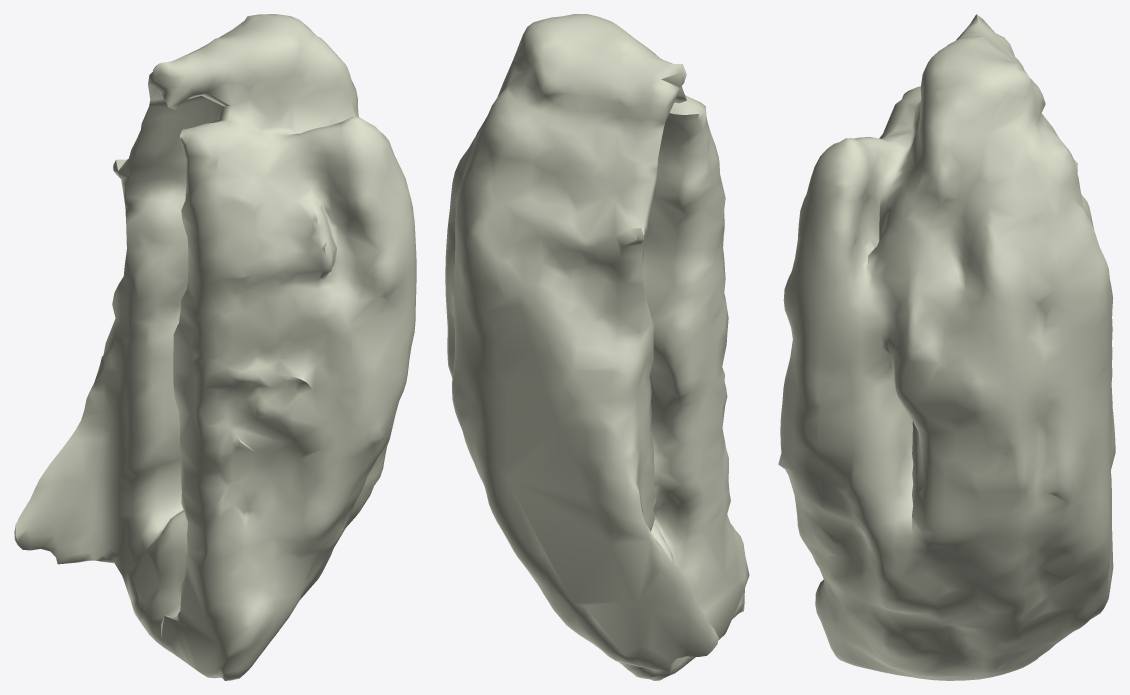
Rendered from spl-366.glb.
3 views of the same model, side by side, from view 1: azimuth 30°, elevation 25°; view 2: azimuth 150°, elevation 25°; view 3: azimuth 270°, elevation 25° (orthographic). The views are drawn at different scales.
Parts seen in each view (by area): view 1: spl-366; view 2: spl-366; view 3: spl-366.
Boxes of the visible parts, left/top/right/bottom form: spl-366: left=14, top=14, right=416, bottom=680; spl-366: left=445, top=14, right=749, bottom=680; spl-366: left=778, top=14, right=1115, bottom=680.
Bounding box in the file's own units: 24.93 × 46.73 × 21.33.
